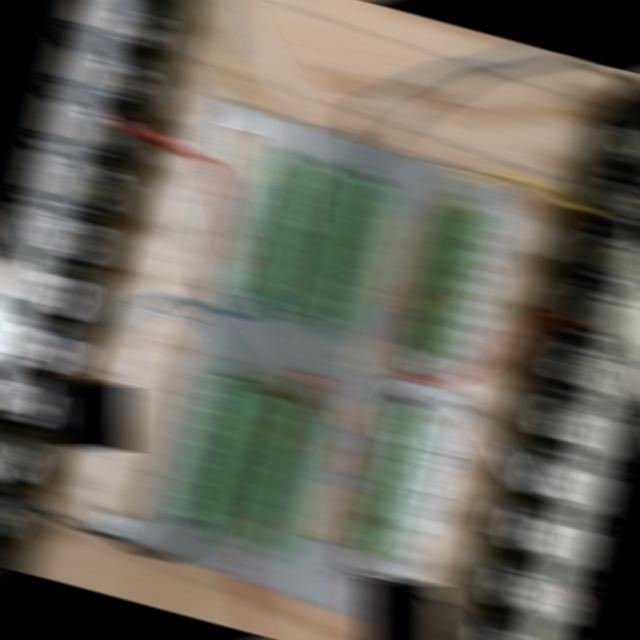Terminal_1: (347, 400, 436, 564), (405, 199, 489, 360)
Terminal_2: (204, 388, 288, 545), (248, 401, 331, 557), (315, 175, 396, 329), (271, 163, 351, 315), (226, 151, 306, 301)
